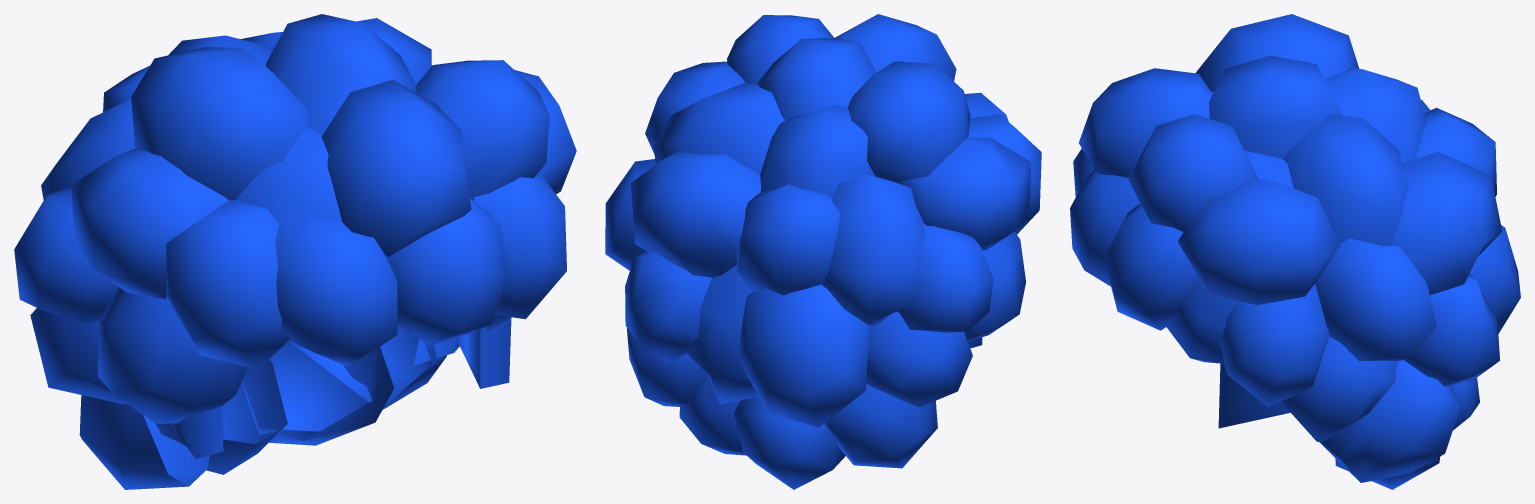
File: Male_Hairs_04.fbx
The picture shows the model from 3 angles, left to right: view 1: azimuth 30°, elevation 25°; view 2: azimuth 150°, elevation 25°; view 3: azimuth 270°, elevation 25°; orthographic projection. The views are drawn at different scales.
Parts seen in each view (by area): view 1: Male_Hairs_04; view 2: Male_Hairs_04; view 3: Male_Hairs_04.
Part boxes in pixels (bbox=[...]): Male_Hairs_04: bbox=[14, 14, 576, 489]; Male_Hairs_04: bbox=[605, 14, 1041, 489]; Male_Hairs_04: bbox=[1070, 14, 1520, 489].
Size of the model in its own units: 78.16 by 75.37 by 76.42.
